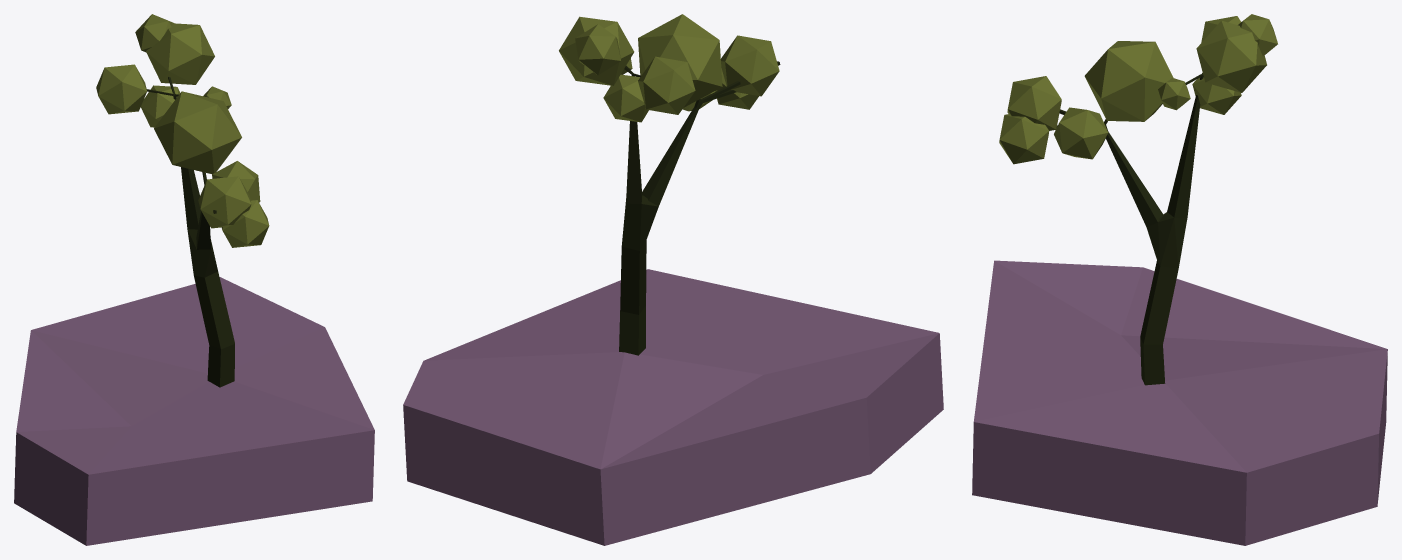
File: land3.gltf
The picture shows the model from 3 angles, left to right: view 1: azimuth 30°, elevation 25°; view 2: azimuth 150°, elevation 25°; view 3: azimuth 270°, elevation 25°; orthographic projection. The views are drawn at different scales.
Visible parts, largest first — view 1: obj3, tree3.001, tree3; view 2: obj3, tree3.001, tree3; view 3: obj3, tree3.001, tree3.
Boxes of the visible parts, x1=… form: obj3: x1=14, y1=277, x2=374, y2=545; tree3.001: x1=96, y1=14, x2=269, y2=247; tree3: x1=146, y1=77, x2=234, y2=387; obj3: x1=403, y1=269, x2=943, y2=545; tree3.001: x1=559, y1=14, x2=779, y2=122; tree3: x1=619, y1=61, x2=780, y2=355; obj3: x1=972, y1=260, x2=1387, y2=545; tree3.001: x1=999, y1=14, x2=1277, y2=164; tree3: x1=1056, y1=73, x2=1203, y2=385.
Size of the model in its own units: 4.54 by 5 by 4.24.
